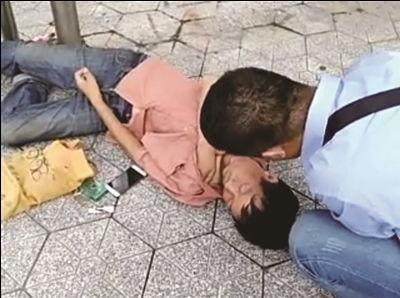Fall-Detected: (10, 25, 296, 268)
